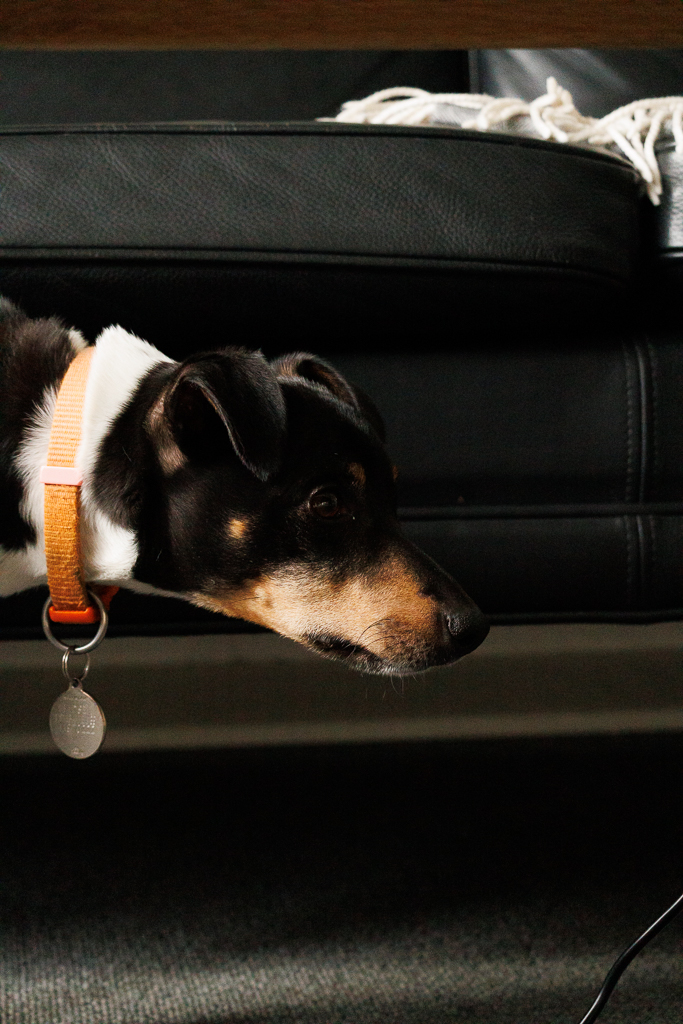Dog: (0, 275, 522, 754)
